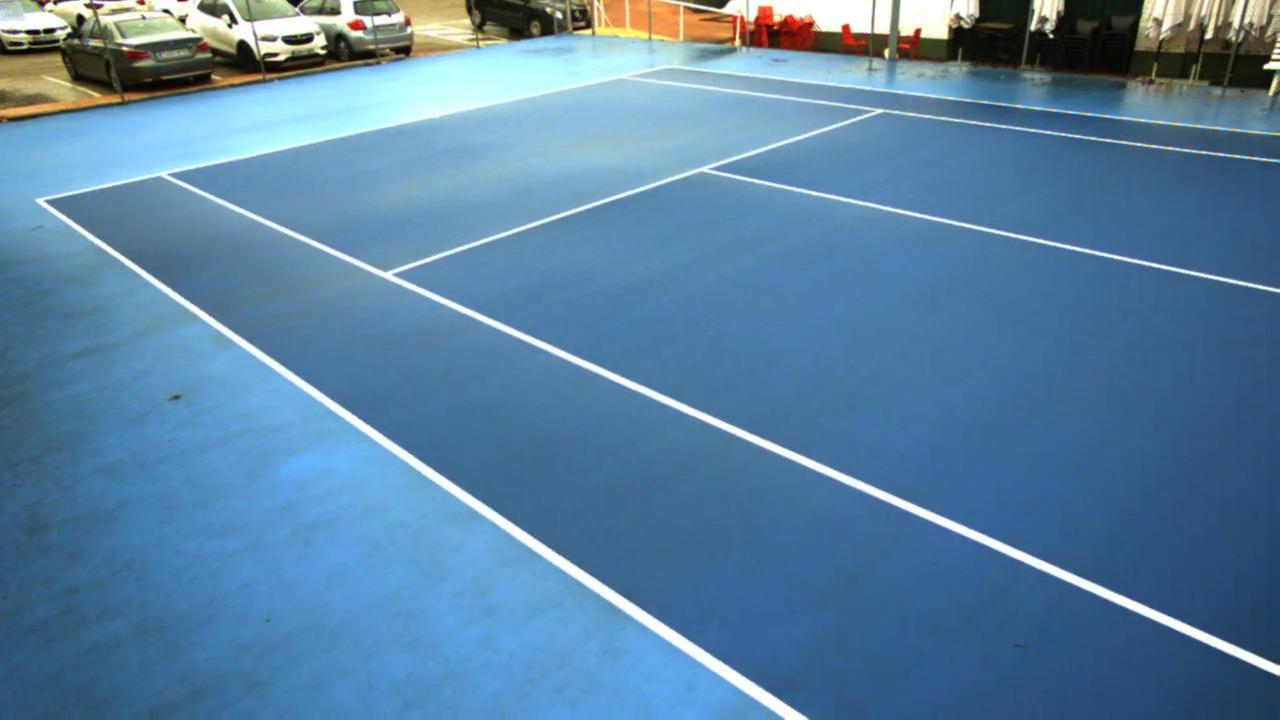cancha_tenis: (163, 75, 1280, 720)
point_f1: (148, 162, 186, 189)
point_f2: (613, 66, 639, 90)
point_fc1: (429, 109, 448, 129)
point_i1: (371, 262, 407, 288)
point_i2: (862, 97, 894, 122)
point_ic1: (690, 155, 725, 186)
